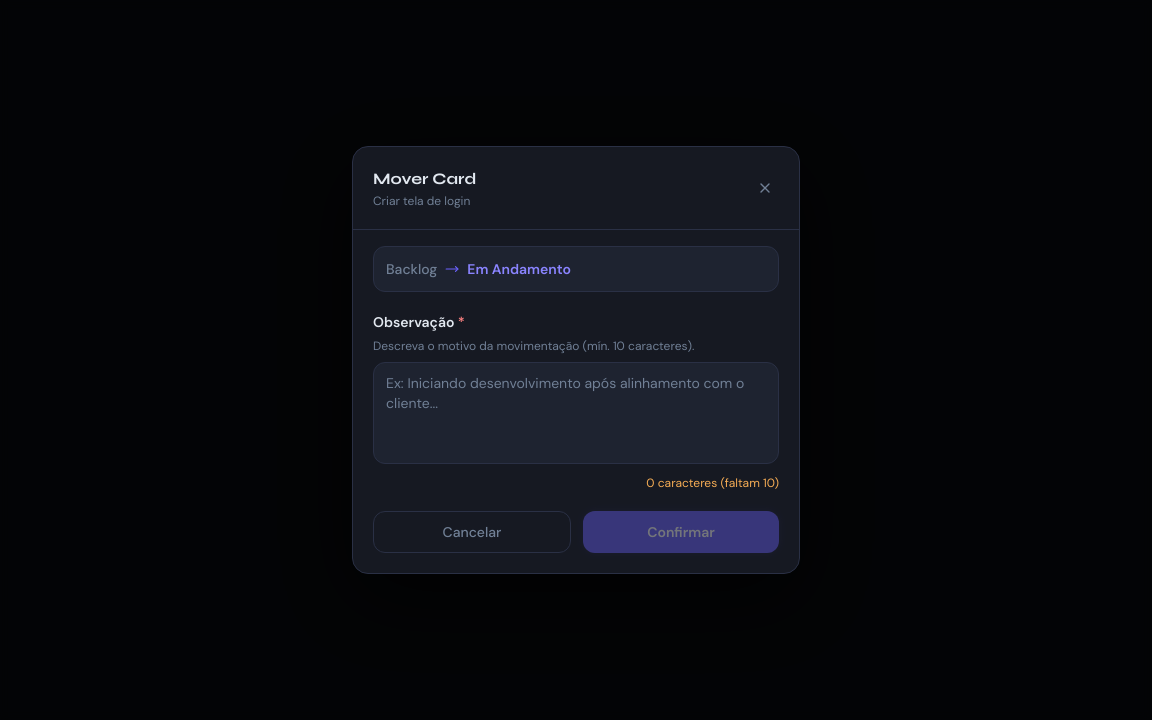
MoveModal › botão Confirmar é habilitado com 10+ caracteres
In the text box: [576, 413] box [373,362,779,464], type "Observação longa o suficiente para passar."
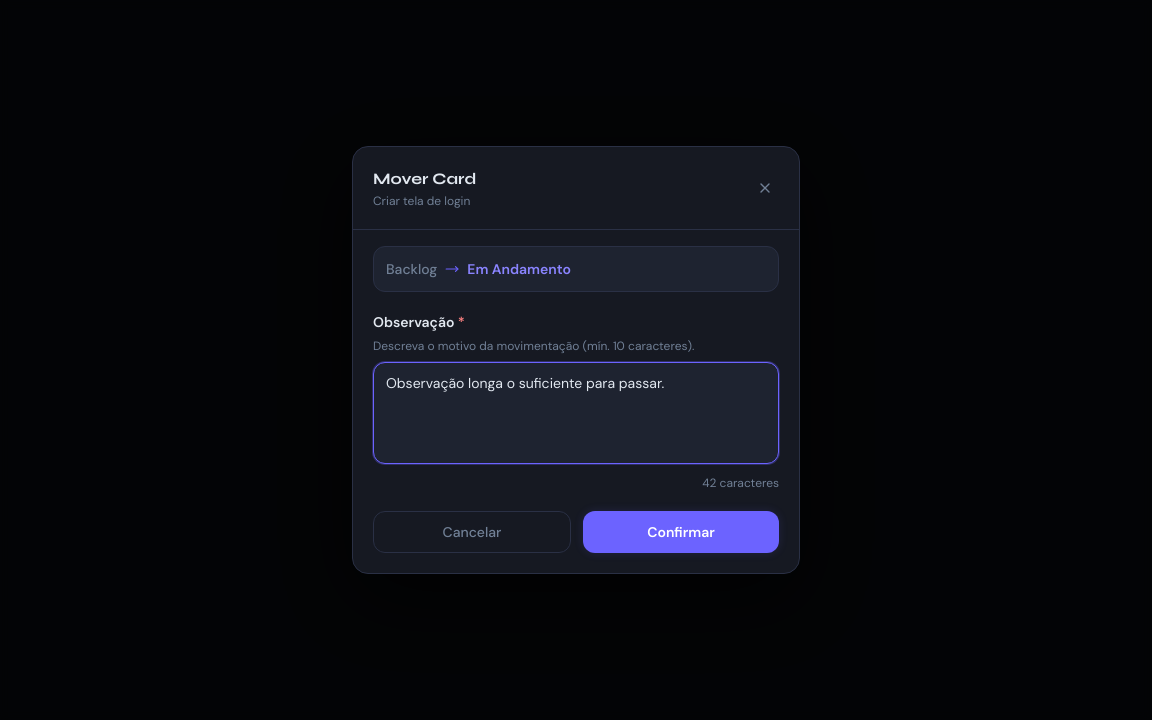
Check: the button "Confirmar" is enabled, box [583,511,779,553]
